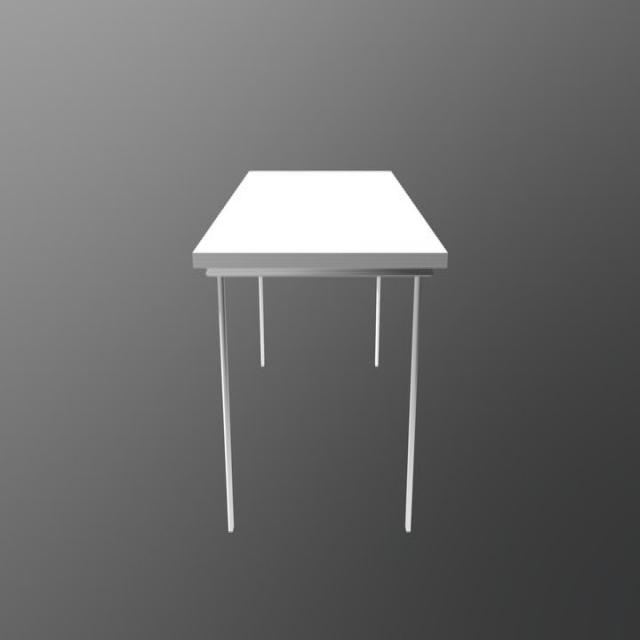table: (195, 166, 448, 534)
